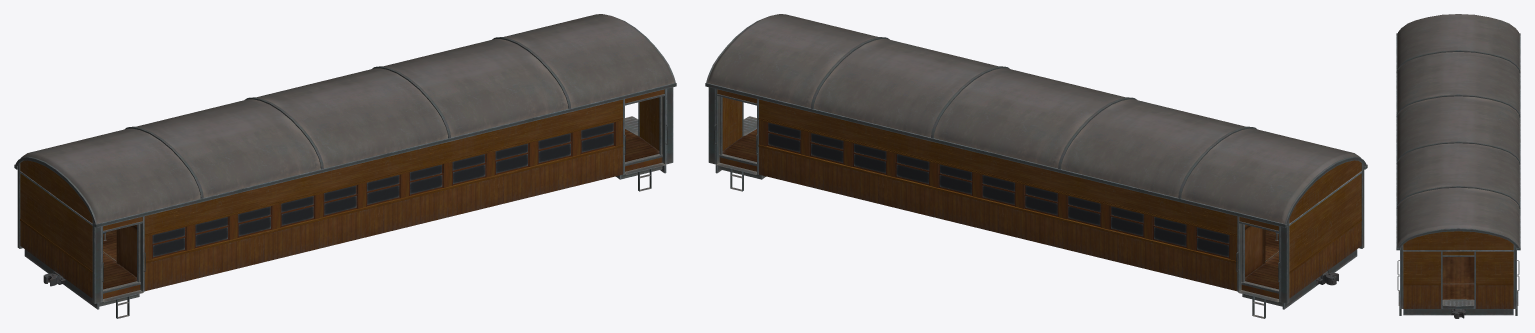
The model's file is EnmuTrainBody.fbx.
The picture shows the model from 3 angles, left to right: view 1: azimuth 30°, elevation 25°; view 2: azimuth 150°, elevation 25°; view 3: azimuth 270°, elevation 25°; orthographic projection. The views are drawn at different scales.
Visible parts, largest first — view 1: 0002_SM_a_006_Locomotive_02a, 0001_SM_a_006_Locomotive_02a, 0000_SM_a_006_Locomotive_02a, 0003_SM_a_006_Locomotive_02a, 0005_SM_a_006_Locomotive_02a, 0006_SM_a_006_Locomotive_02a; view 2: 0002_SM_a_006_Locomotive_02a, 0001_SM_a_006_Locomotive_02a, 0000_SM_a_006_Locomotive_02a, 0003_SM_a_006_Locomotive_02a, 0005_SM_a_006_Locomotive_02a, 0006_SM_a_006_Locomotive_02a; view 3: 0002_SM_a_006_Locomotive_02a, 0001_SM_a_006_Locomotive_02a, 0000_SM_a_006_Locomotive_02a, 0005_SM_a_006_Locomotive_02a, 0008_SM_a_006_Locomotive_02a.
Boxes of the visible parts, x1,y1,x2,y2 form: 0002_SM_a_006_Locomotive_02a: (21, 14, 673, 223); 0001_SM_a_006_Locomotive_02a: (14, 82, 676, 298); 0000_SM_a_006_Locomotive_02a: (15, 20, 675, 318); 0003_SM_a_006_Locomotive_02a: (152, 122, 613, 256); 0005_SM_a_006_Locomotive_02a: (103, 129, 659, 289); 0006_SM_a_006_Locomotive_02a: (103, 136, 658, 277); 0002_SM_a_006_Locomotive_02a: (708, 14, 1360, 223); 0001_SM_a_006_Locomotive_02a: (705, 82, 1367, 298); 0000_SM_a_006_Locomotive_02a: (706, 20, 1366, 318); 0003_SM_a_006_Locomotive_02a: (768, 122, 1229, 256); 0005_SM_a_006_Locomotive_02a: (722, 129, 1278, 289); 0006_SM_a_006_Locomotive_02a: (723, 136, 1278, 277); 0002_SM_a_006_Locomotive_02a: (1397, 14, 1519, 246); 0001_SM_a_006_Locomotive_02a: (1396, 33, 1520, 308); 0000_SM_a_006_Locomotive_02a: (1396, 33, 1520, 315); 0005_SM_a_006_Locomotive_02a: (1442, 257, 1474, 299); 0008_SM_a_006_Locomotive_02a: (1451, 309, 1465, 318).
Size of the model in its own units: 27.87 by 5.81 by 6.6.
